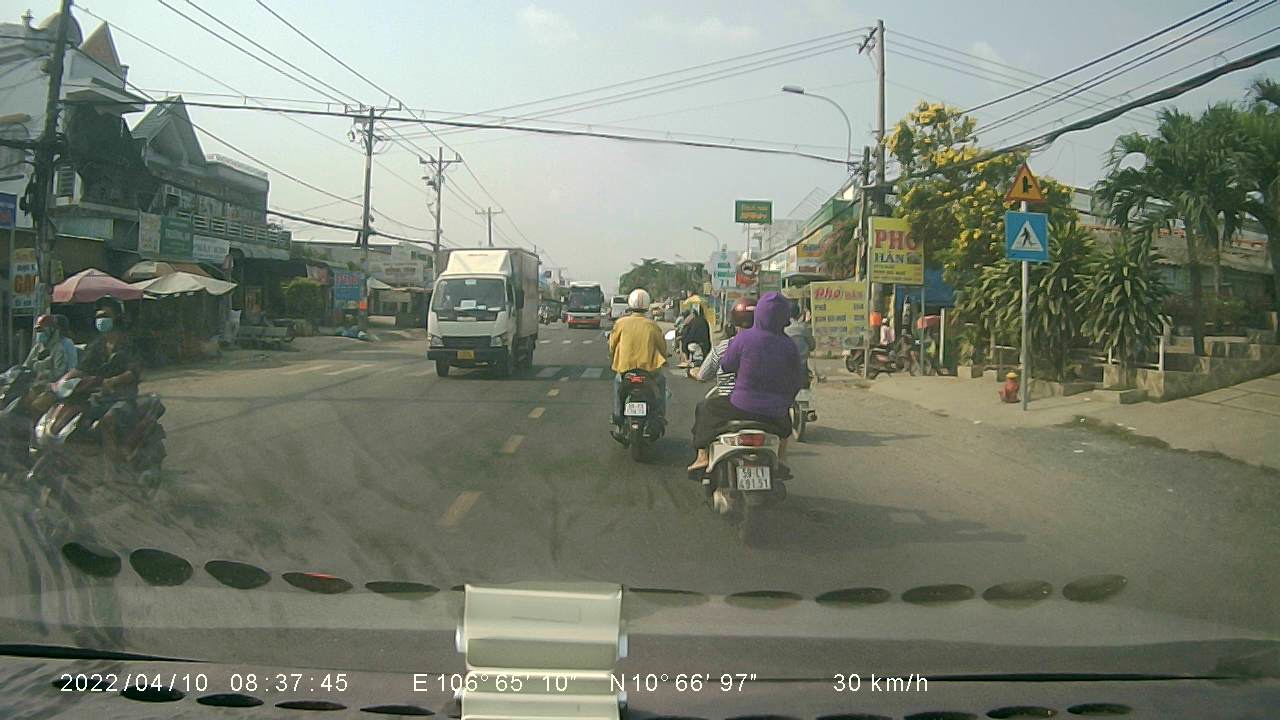Giao nhau voi duong khong uu tien: (1000, 157, 1044, 202)
Nguoi di bo: (999, 206, 1054, 265)
